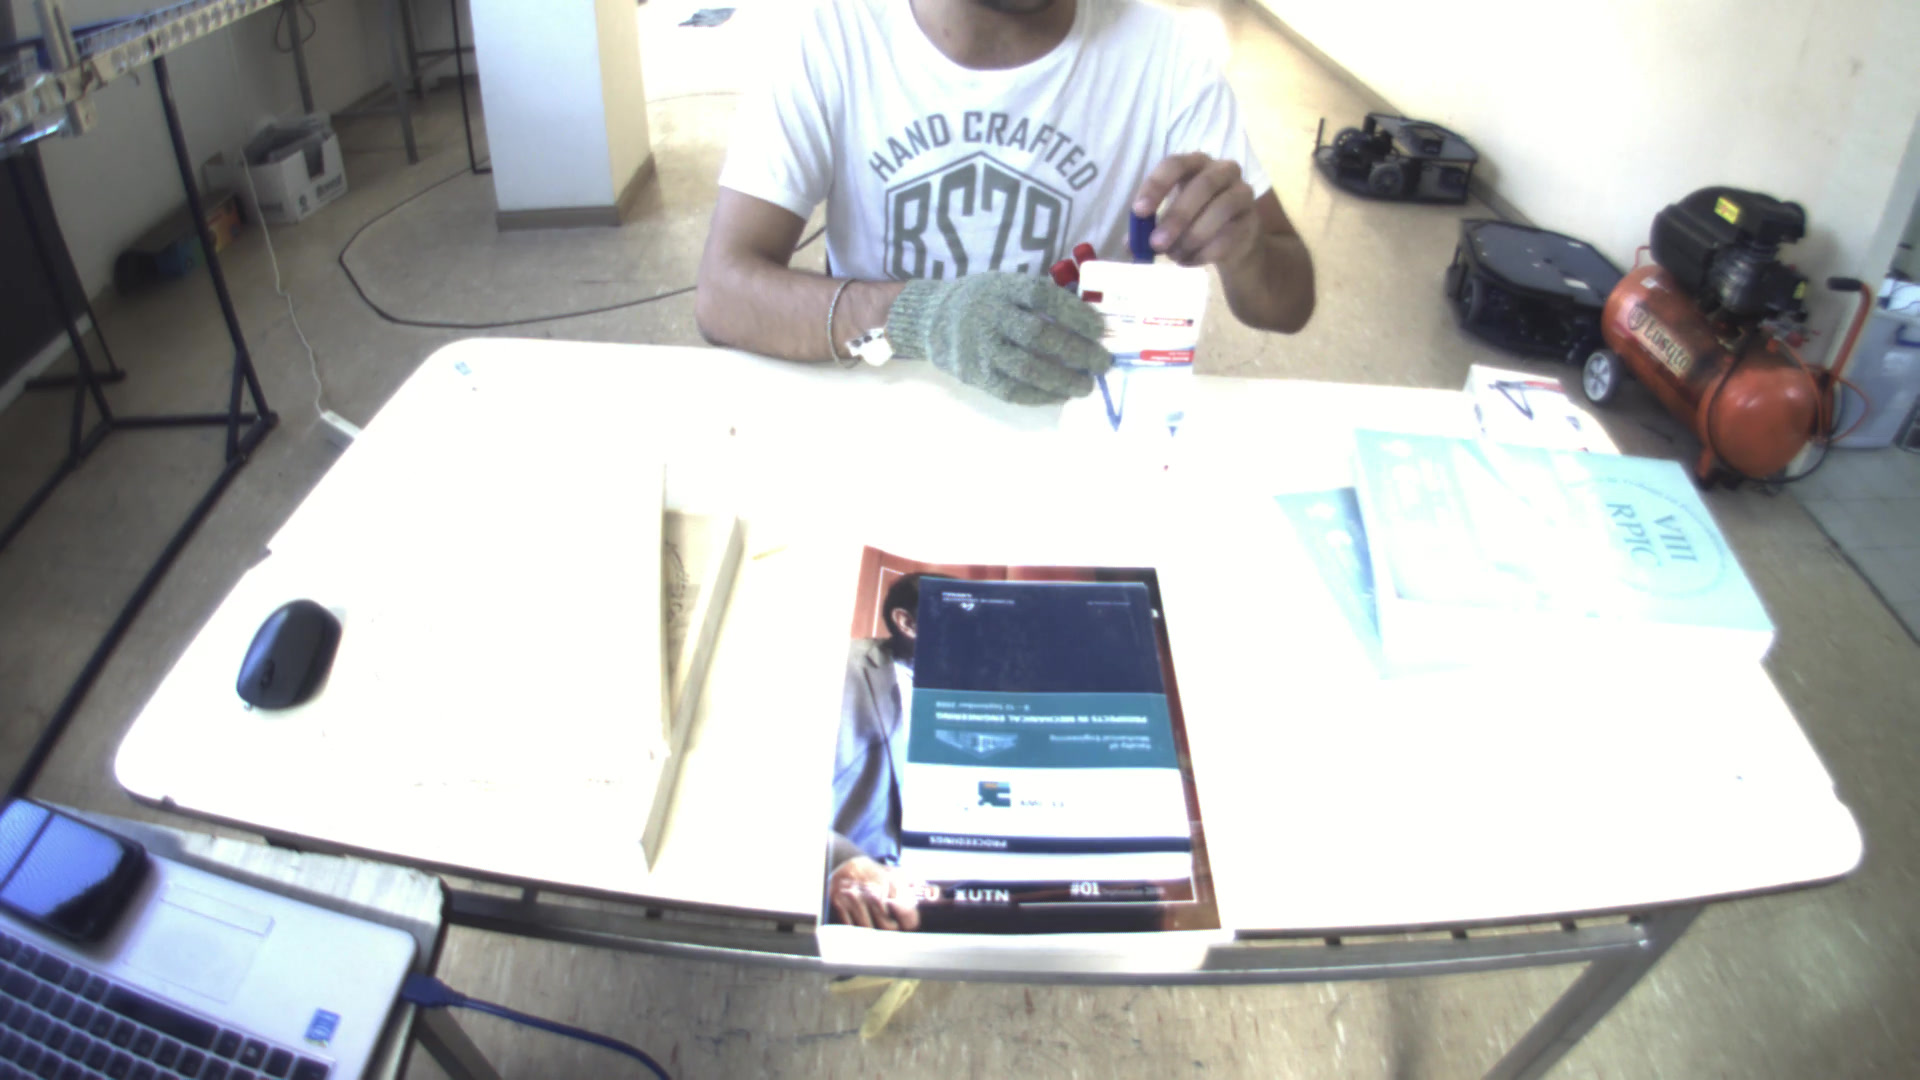hand: (870, 261, 1124, 400), (1134, 138, 1269, 287)
